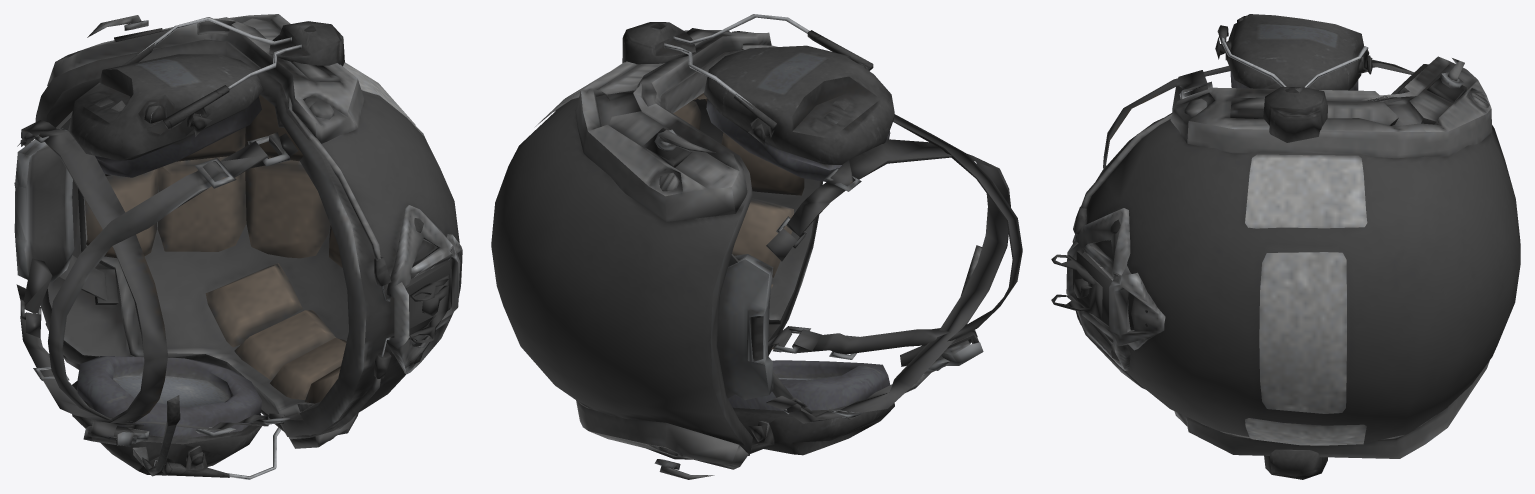
The model's file is M_GunRunnersHelmet.fbx.
3 renders of one model, left to right at view 1: azimuth 30°, elevation 25°; view 2: azimuth 150°, elevation 25°; view 3: azimuth 270°, elevation 25°, orthographic. The views are drawn at different scales.
Parts seen in each view (by area): view 1: GunRunner Helmet; view 2: GunRunner Helmet; view 3: GunRunner Helmet.
Boxes of the visible parts, left/top/right/bottom form: GunRunner Helmet: left=14, top=14, right=462, bottom=479; GunRunner Helmet: left=491, top=14, right=1022, bottom=479; GunRunner Helmet: left=1051, top=14, right=1520, bottom=479.
Bounding box in the file's own units: 0.1777 × 0.1583 × 0.171.
